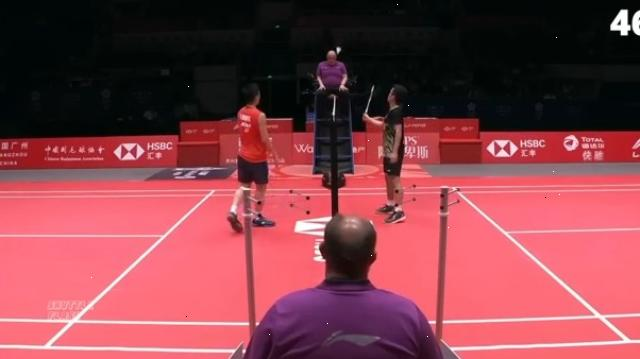Shuttlecock: (334, 46, 344, 55)
